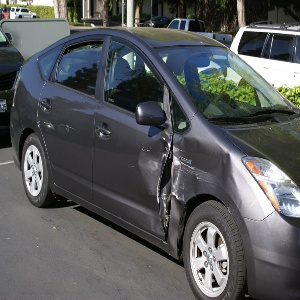door: (121, 128, 179, 244)
